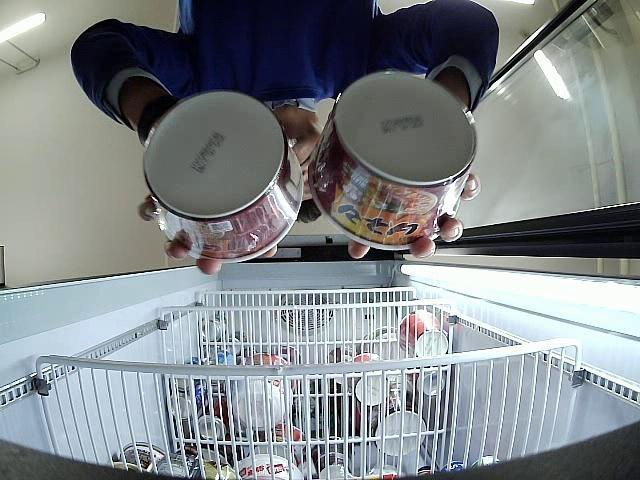05_nuguri_L: (311, 71, 478, 250), (142, 91, 304, 262)
